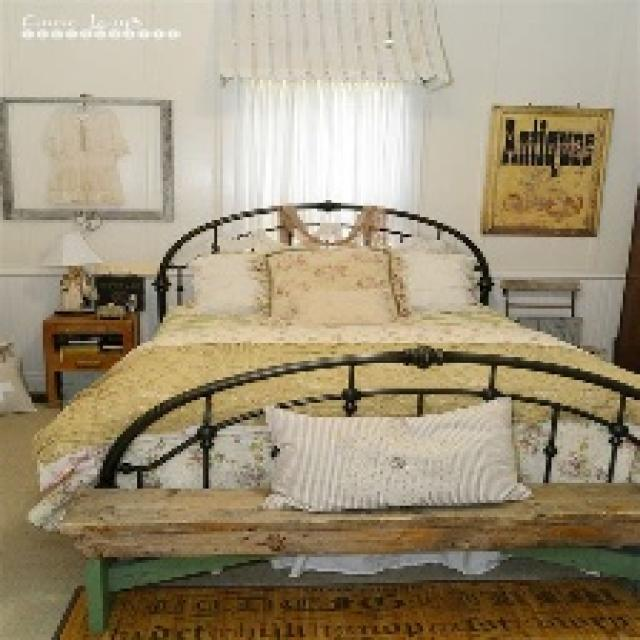Bed: (26, 197, 637, 634)
